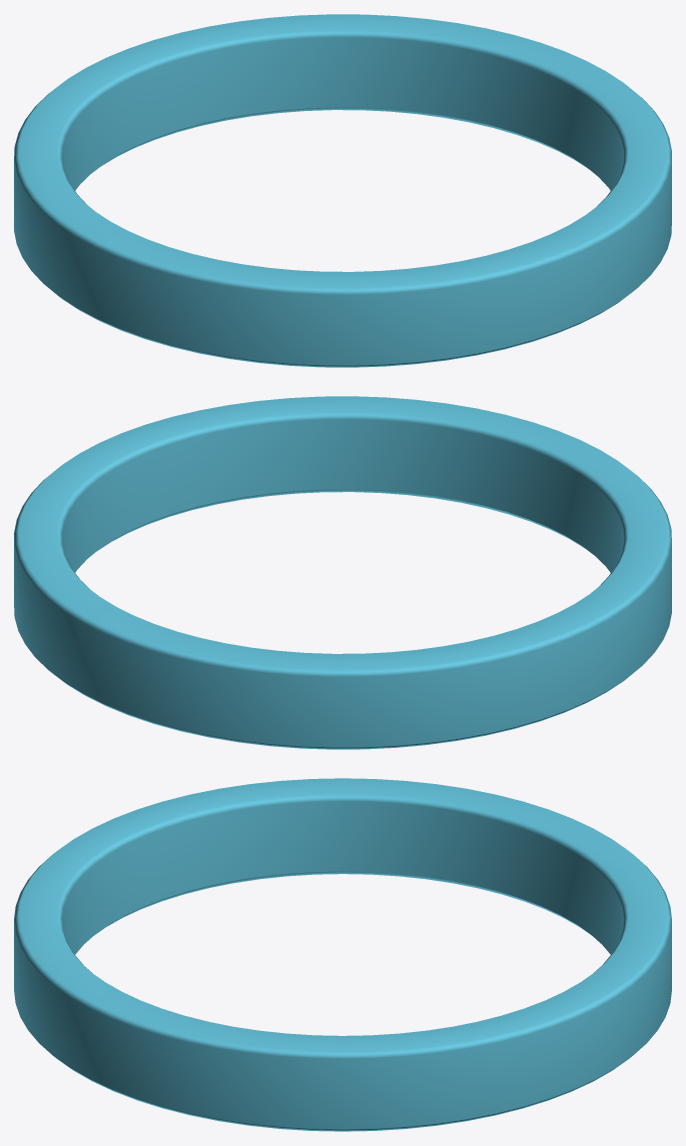
The picture shows the model from 3 angles, top to bottom: view 1: azimuth 30°, elevation 25°; view 2: azimuth 150°, elevation 25°; view 3: azimuth 270°, elevation 25°; orthographic projection.
Parts seen in each view (by area): view 1: seal_body; view 2: seal_body; view 3: seal_body.
Part boxes in pixels (left/top/right/bottom): seal_body: left=14, top=14, right=671, bottom=367; seal_body: left=14, top=396, right=671, bottom=749; seal_body: left=14, top=778, right=671, bottom=1131.
Size of the model in its own units: 0.095 by 0.0127 by 0.095.
